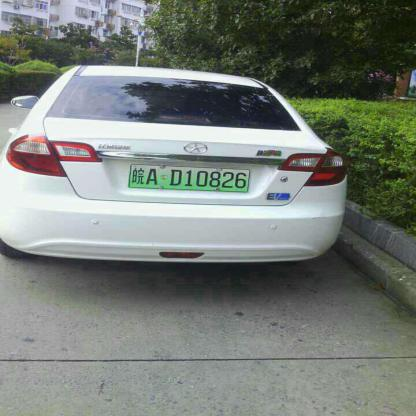lp: (129, 165, 248, 190)
